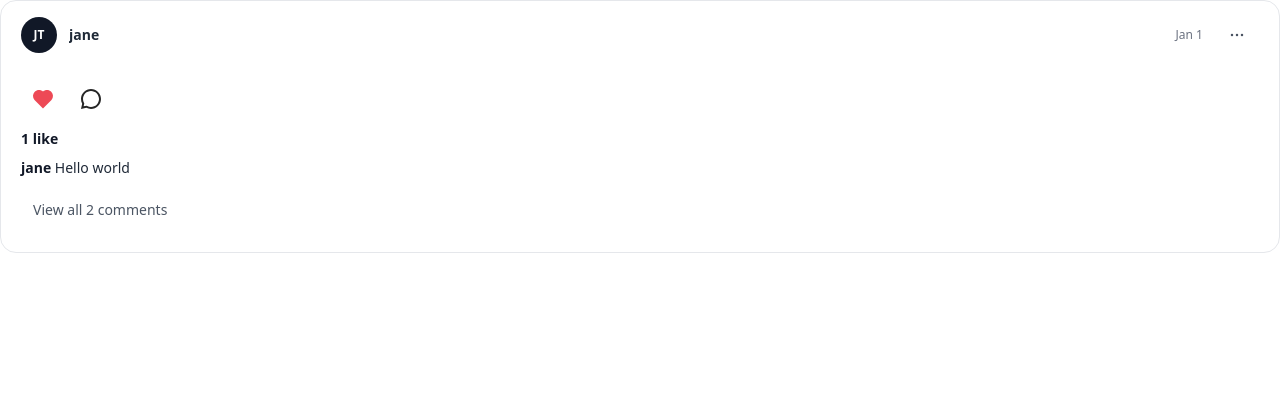
it: PostCard › rolls back a failed optimistic unlike and reports the error
The width and height of the screenshot is (1280, 415).
Click the button named "Unlike".
click(43, 99)  # box [21,77,65,121]
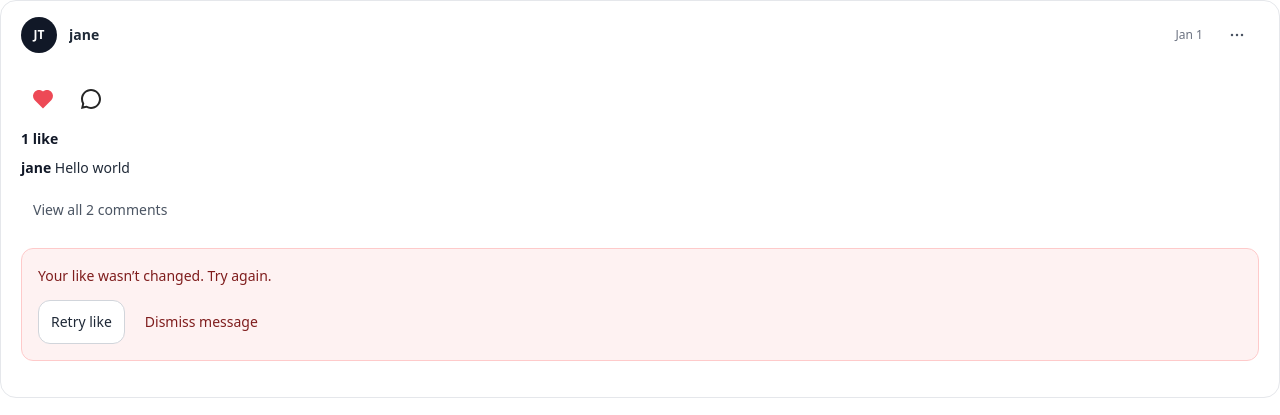
Check: the text "1 like" is shown, box [21,129,58,148]
Check: the text "Your like wasn’t changed. Try again." is shown, box [38,266,272,285]
